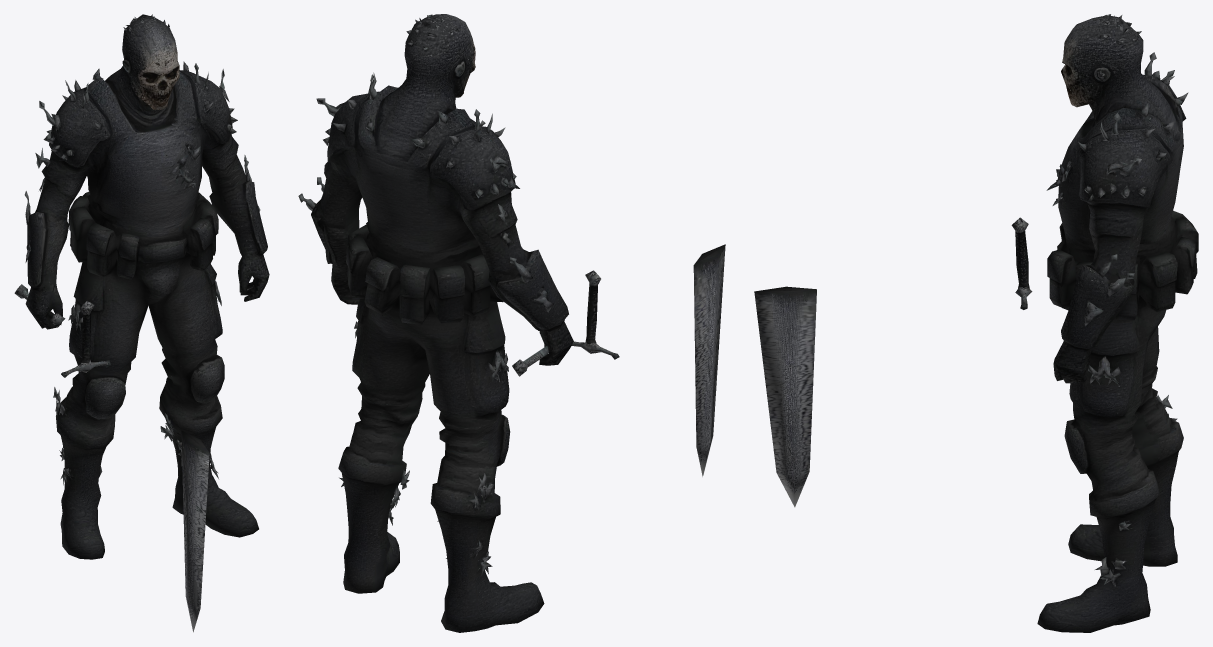
Rendered from selected.glb.
3 views of the same model, side by side, from view 1: azimuth 30°, elevation 25°; view 2: azimuth 150°, elevation 25°; view 3: azimuth 270°, elevation 25° (orthographic). The views are drawn at different scales.
Visible parts, largest first — view 1: tripo_node_3807ff45-3dce-436b-ba4a-1d43008dcbfc; view 2: tripo_node_3807ff45-3dce-436b-ba4a-1d43008dcbfc; view 3: tripo_node_3807ff45-3dce-436b-ba4a-1d43008dcbfc.
Boxes of the visible parts, box(x1,y1,x2,y2) form: tripo_node_3807ff45-3dce-436b-ba4a-1d43008dcbfc: box(14, 14, 269, 632); tripo_node_3807ff45-3dce-436b-ba4a-1d43008dcbfc: box(298, 14, 725, 632); tripo_node_3807ff45-3dce-436b-ba4a-1d43008dcbfc: box(754, 14, 1198, 632).
Bounding box in the file's own units: 0.4746 × 0.998 × 0.7051.
1 material, 1 textured.
